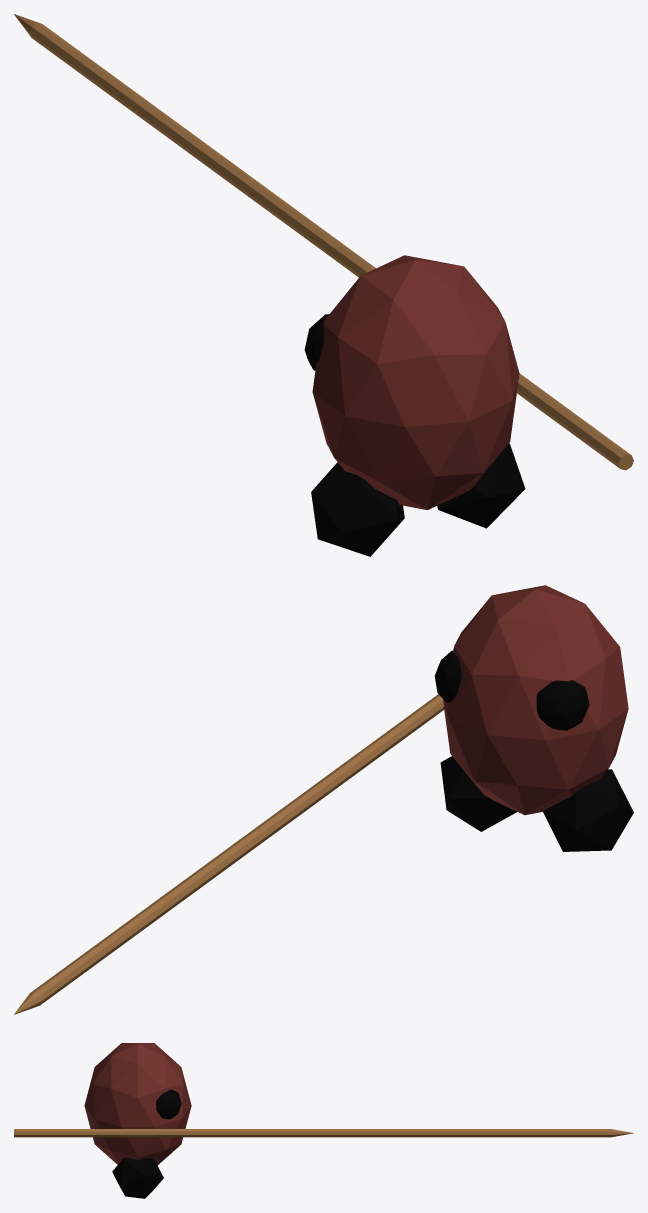
File: stab.f0007.glb
The picture shows the model from 3 angles, top to bottom: view 1: azimuth 30°, elevation 25°; view 2: azimuth 150°, elevation 25°; view 3: azimuth 270°, elevation 25°; orthographic projection. The views are drawn at different scales.
Visible parts, largest first — view 1: Body.001; view 2: Body.001; view 3: Body.001.
Part boxes in pixels (x1,y1,x2,y2): Body.001: [14, 14, 633, 556]; Body.001: [14, 585, 633, 1014]; Body.001: [14, 1043, 633, 1198].
Bounding box in the file's own units: 2.17 × 2.85 × 11.56.
1 material, 1 textured.
